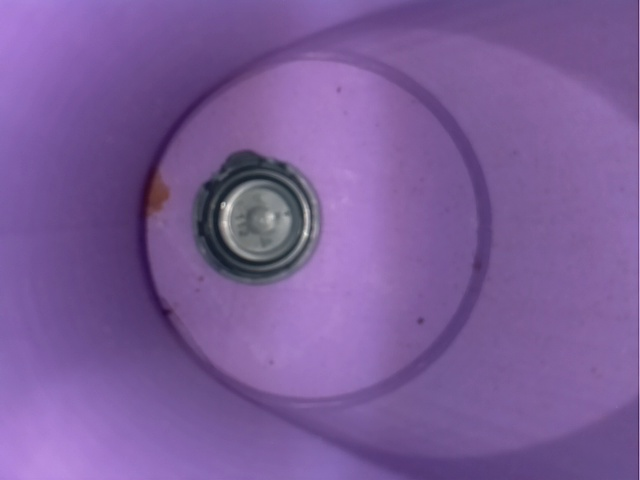bouchon: (175, 140, 335, 291)
